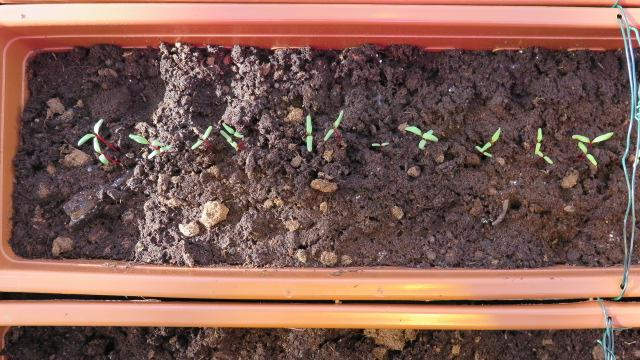crop: (319, 107, 345, 142), (185, 122, 215, 150), (300, 111, 317, 153), (364, 140, 390, 146)
